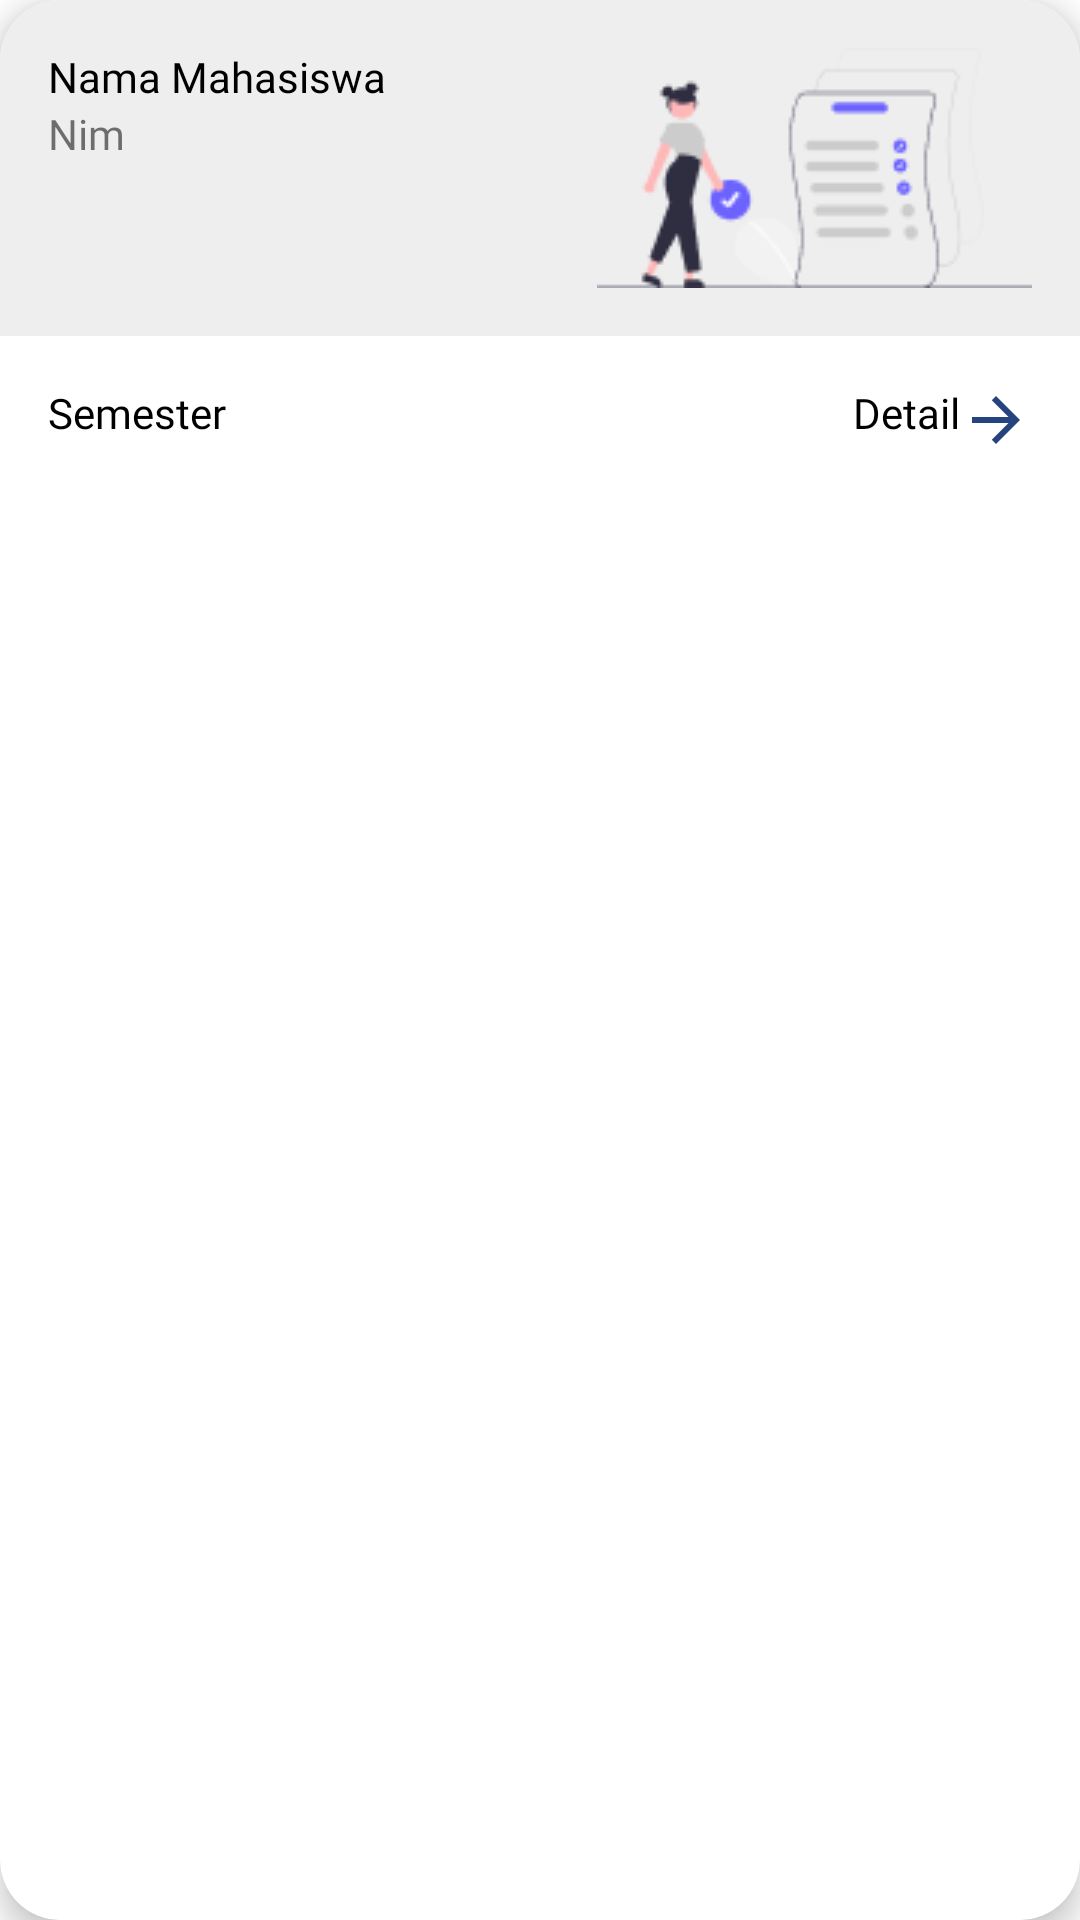

Locate icon controls on the screen. Image size 1080x1920, boxes as [x1, y1, x2, y2].
arrow forward: [972, 396, 1020, 444]
